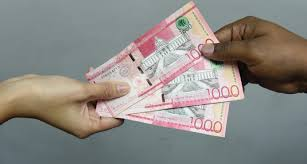billete: (85, 1, 244, 138)
